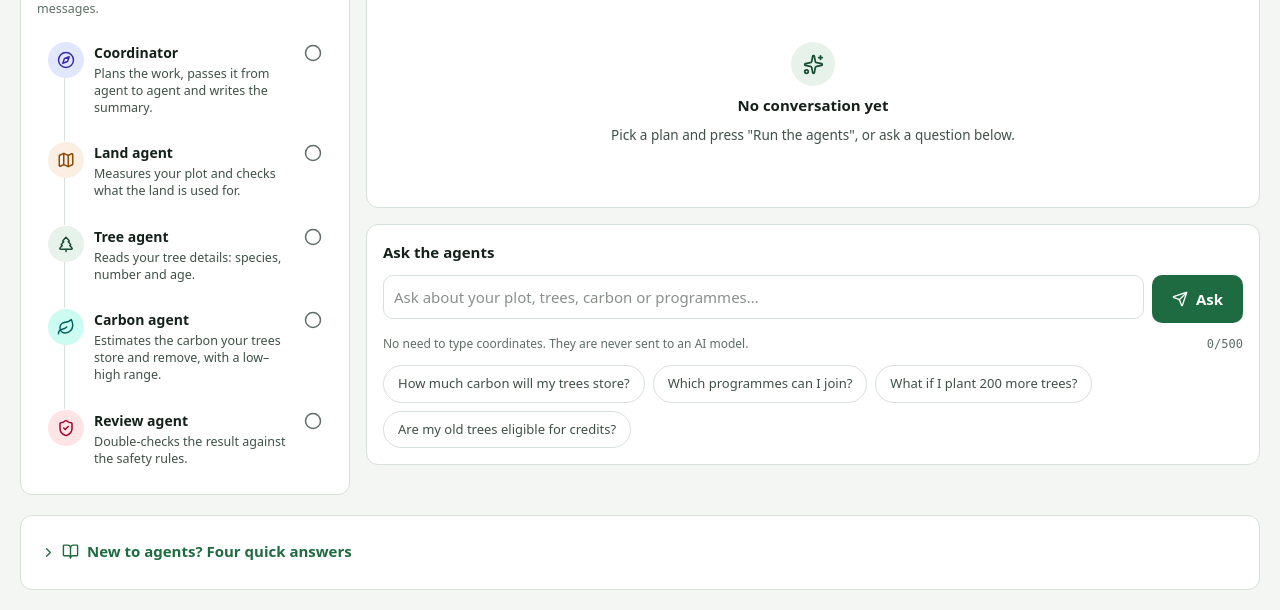
Test case: AgentsPage › links to the guide in a new tab and explains the four ideas
(page scrolled)
Expected: the text "Guardrail" is not shown
Click the button "New to agents? Four quick answers". click: (196, 553)
box: [41,536,352,569]
(page scrolled)
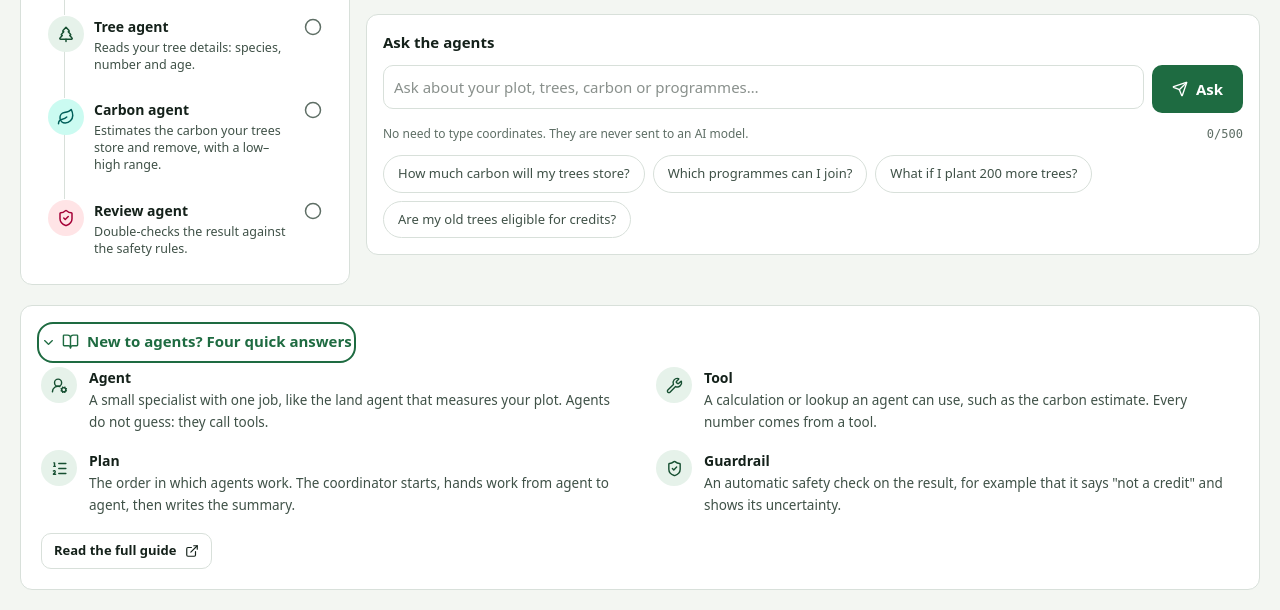
Now the text "Agent" is shown, box [89,368,131,387]
Now the text "Tool" is shown, box [704,368,733,387]
Now the text "Plan" is shown, box [89,451,120,470]
